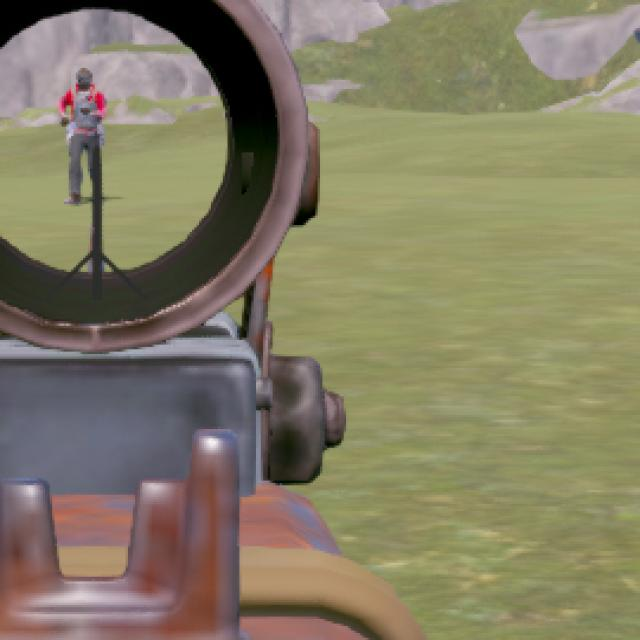Player: (58, 69, 104, 204)
